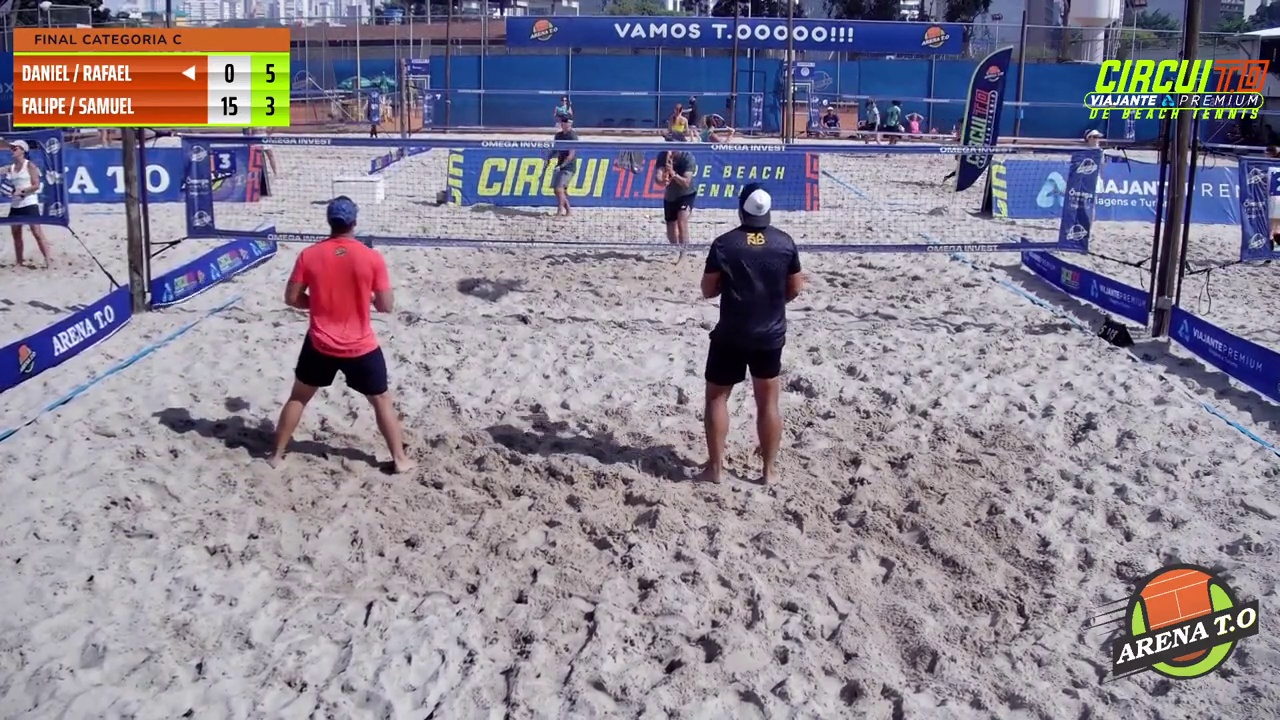court_line: (638, 0, 803, 513)
